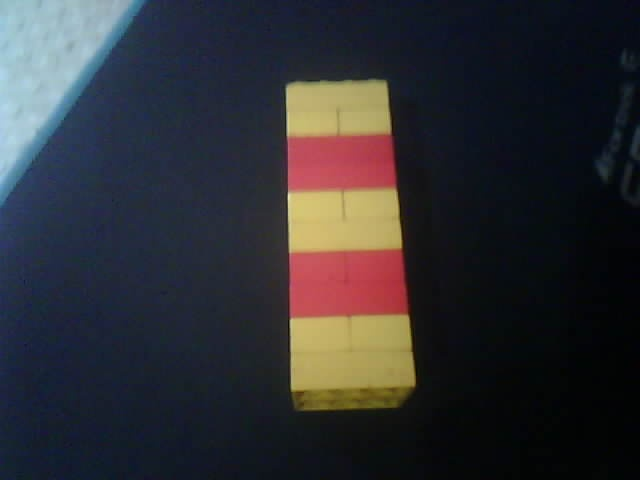lego: (285, 77, 415, 416)
